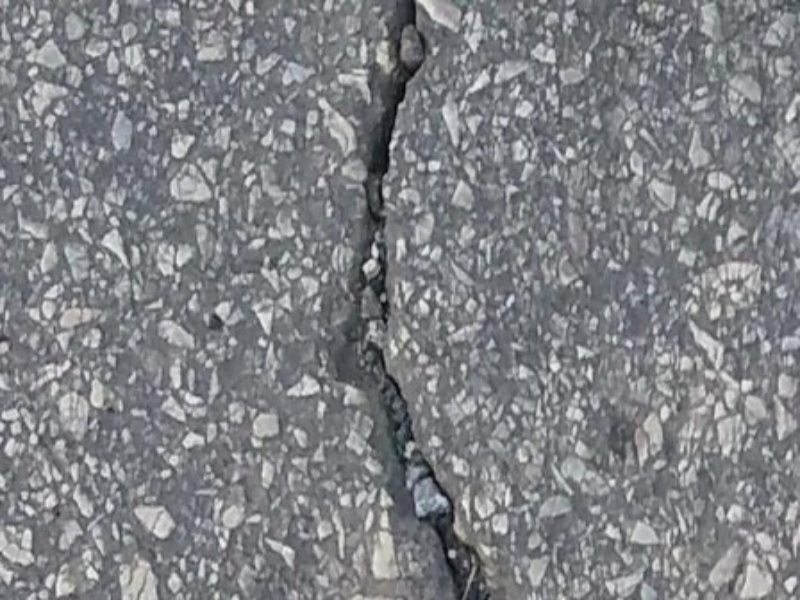crack: (301, 12, 521, 580)
